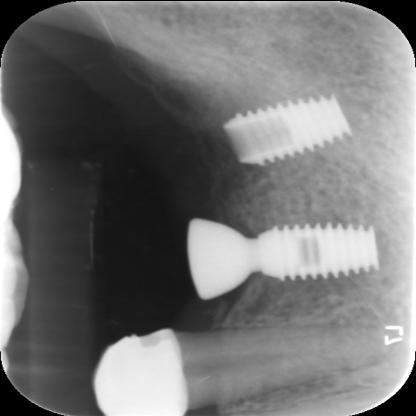Bicon: (224, 95, 354, 169), (243, 223, 381, 282)
